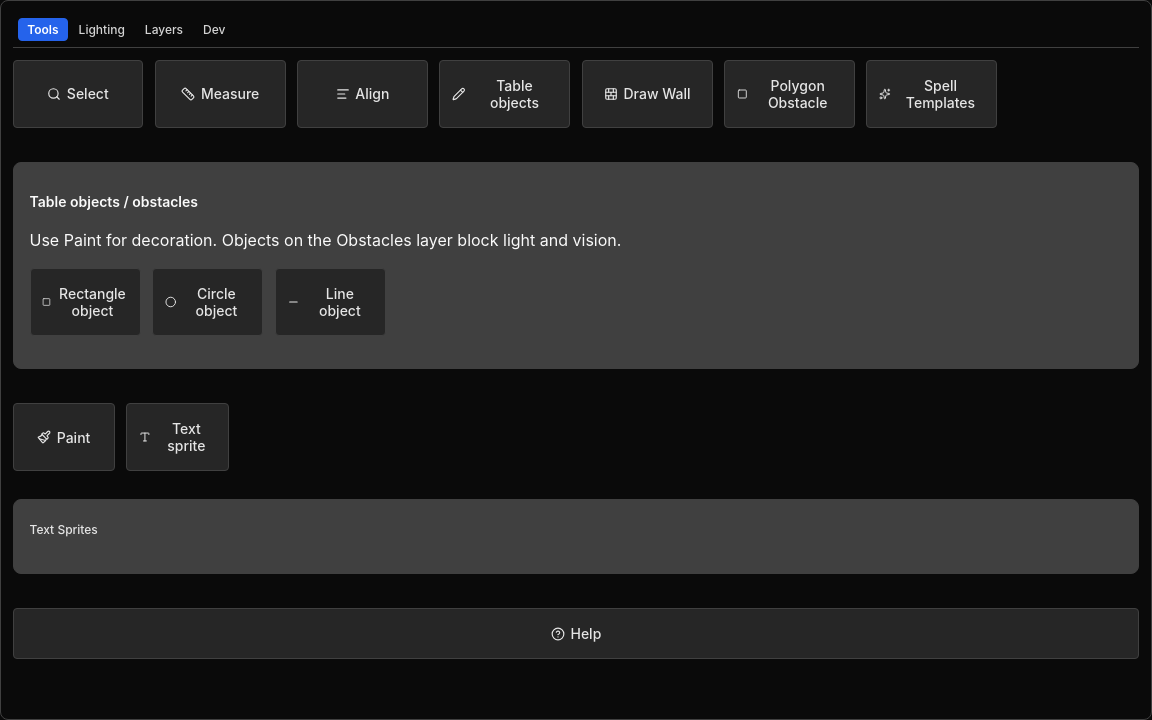
Scenario: ToolsPanel — render › labels the persisted dynamic-lighting toggle by its vision and fog behavior
Click the tab "Lighting" at (102, 30), box [70,18,134,41]
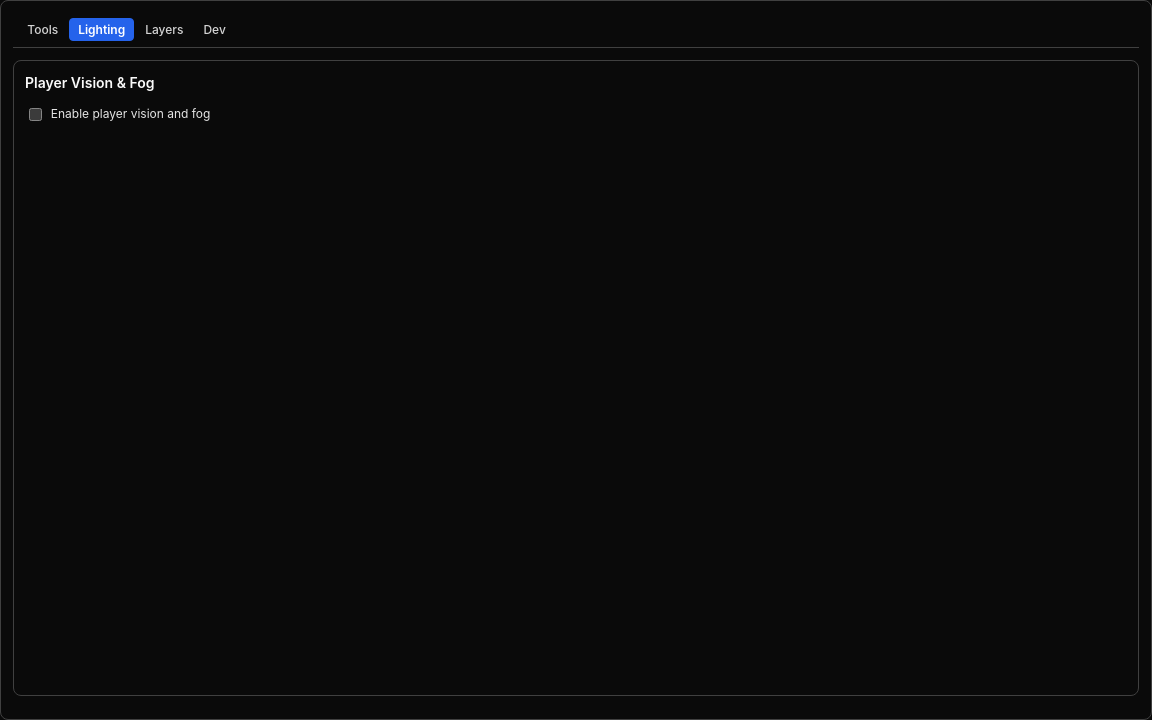
Check: the heading "Player Vision & Fog" is shown, box [25,74,154,91]
Check: the checkbox labelled "Enable player vision and fog" is shown, box [29,108,42,121]
